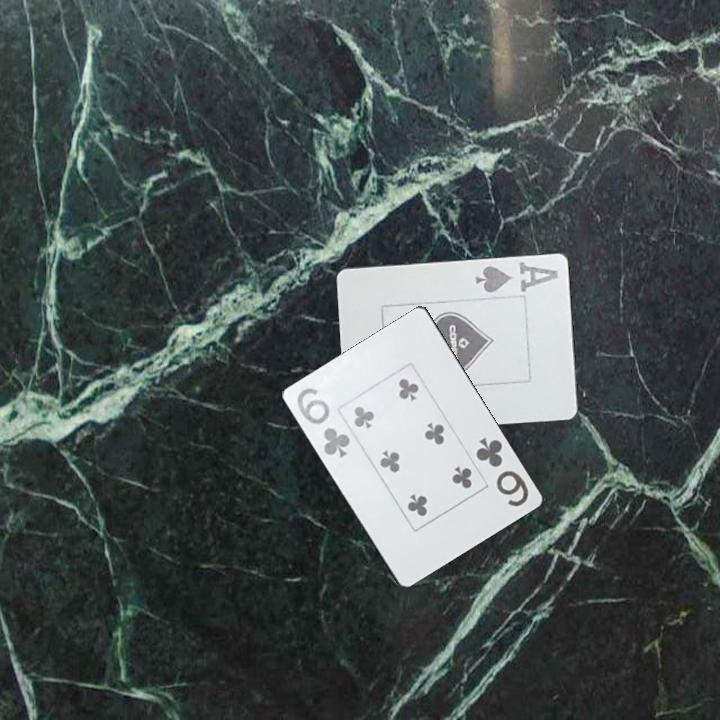6c: (293, 384, 354, 462), (473, 434, 533, 510)
As: (472, 258, 561, 296)
